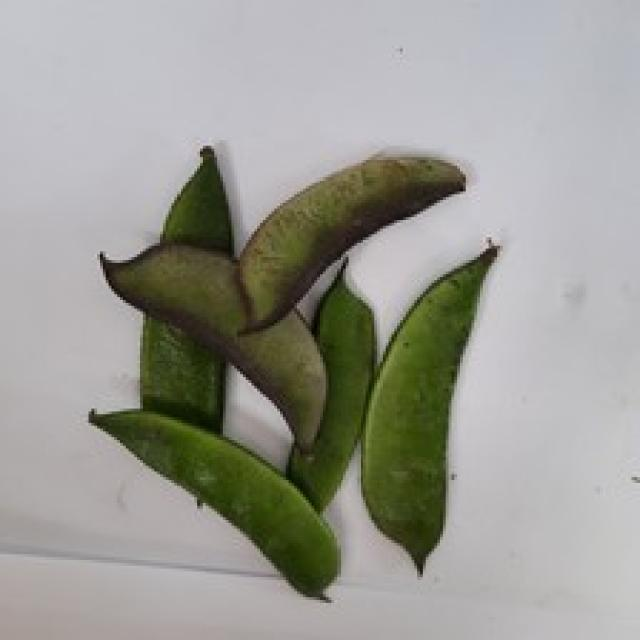Bean: (89, 140, 500, 597), (86, 406, 340, 600), (97, 240, 329, 451), (357, 237, 500, 574), (234, 152, 466, 332), (137, 143, 234, 431), (283, 254, 374, 512)
